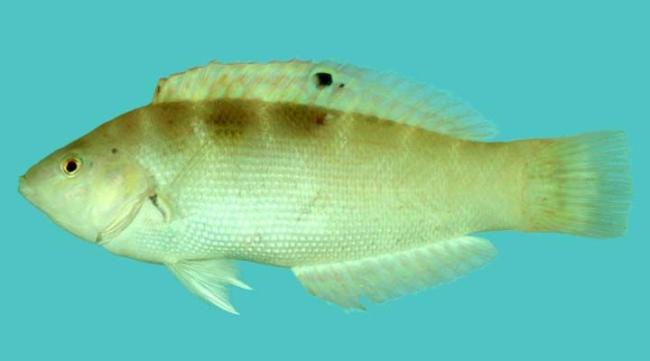fish: (17, 58, 631, 316)
